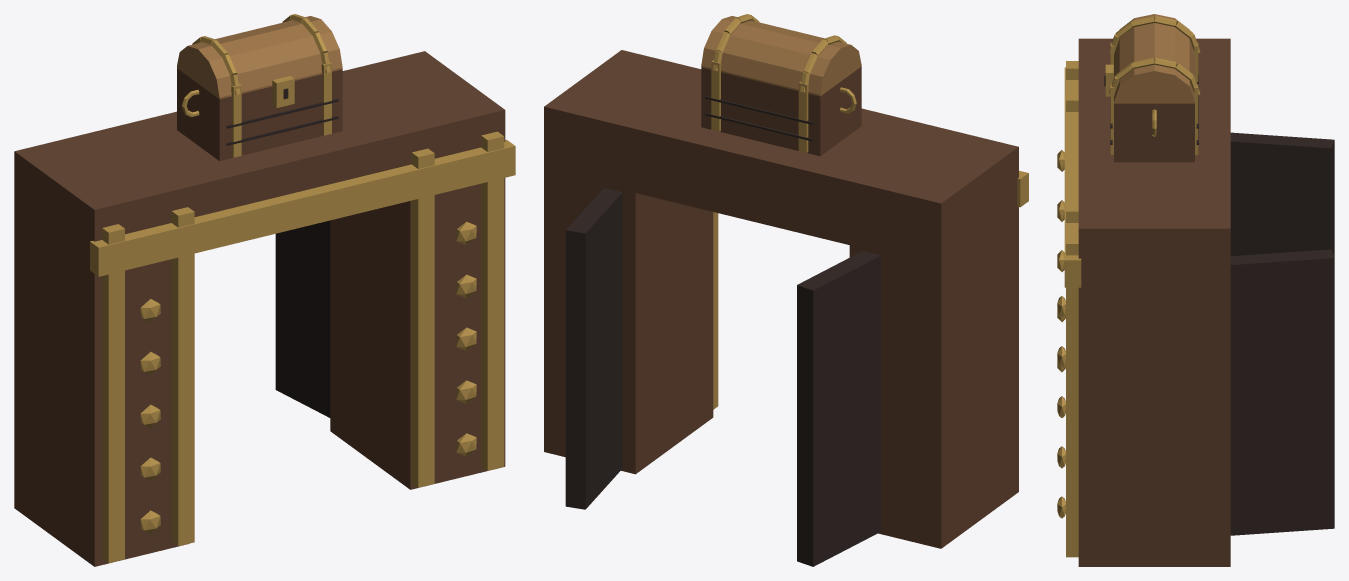
File: PirateCove_TreasureVaultGate_Showcase.glb
3 views of the same model, side by side, from view 1: azimuth 30°, elevation 25°; view 2: azimuth 150°, elevation 25°; view 3: azimuth 270°, elevation 25° (orthographic). The views are drawn at different scales.
Parts seen in each view (by area): view 1: PirateCove_TreasureVaultGate_Showcase; view 2: PirateCove_TreasureVaultGate_Showcase; view 3: PirateCove_TreasureVaultGate_Showcase.
Part boxes in pixels (<box>): PirateCove_TreasureVaultGate_Showcase: <box>14,14,515,566</box>; PirateCove_TreasureVaultGate_Showcase: <box>544,14,1028,566</box>; PirateCove_TreasureVaultGate_Showcase: <box>1057,14,1334,566</box>.
Bounding box in the file's own units: 3.3 × 3.47 × 2.01.
